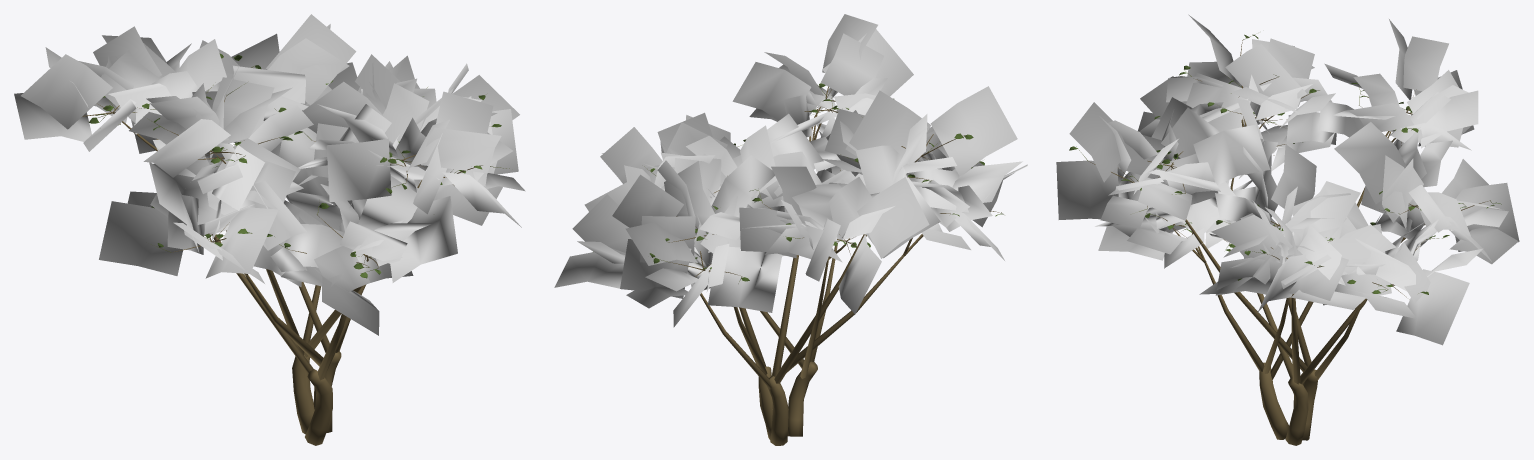
File: V7_Lentisque_2_Niveau1.fbx
The picture shows the model from 3 angles, left to right: view 1: azimuth 30°, elevation 25°; view 2: azimuth 150°, elevation 25°; view 3: azimuth 270°, elevation 25°; orthographic projection. The views are drawn at different scales.
Visible parts, largest first — view 1: V7_Lentisque_2_Detail1; view 2: V7_Lentisque_2_Detail1; view 3: V7_Lentisque_2_Detail1.
Boxes of the visible parts, x1=… form: V7_Lentisque_2_Detail1: x1=14, y1=14, x2=525, y2=445; V7_Lentisque_2_Detail1: x1=554, y1=14, x2=1027, y2=445; V7_Lentisque_2_Detail1: x1=1056, y1=14, x2=1519, y2=445.
Bounding box in the file's own units: 260 × 234 × 275.
